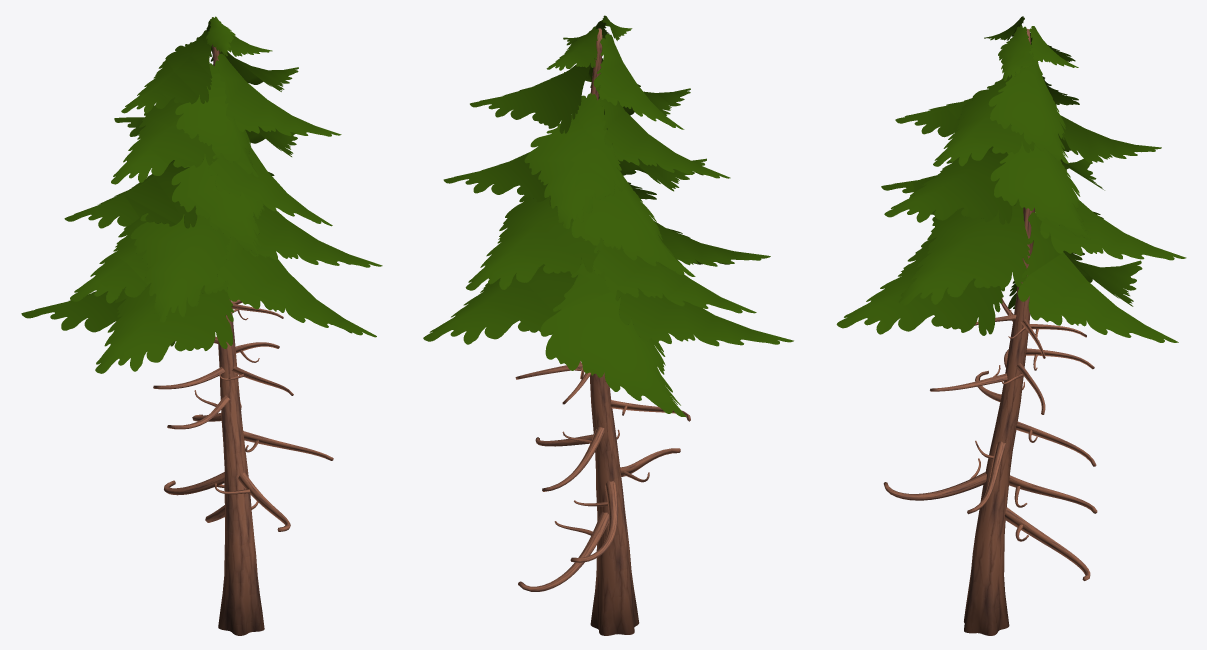
File: pine_1.glb
3 renders of one model, left to right at view 1: azimuth 30°, elevation 25°; view 2: azimuth 150°, elevation 25°; view 3: azimuth 270°, elevation 25°, orthographic. The views are drawn at different scales.
Parts seen in each view (by area): view 1: Pine_3; view 2: Pine_3; view 3: Pine_3.
Boxes of the visible parts, x1,y1,x2,y2 form: Pine_3: [21, 16, 382, 635]; Pine_3: [423, 15, 793, 635]; Pine_3: [836, 16, 1186, 635].
Size of the model in its own units: 3.61 by 7.39 by 4.
2 materials, 2 textured.
